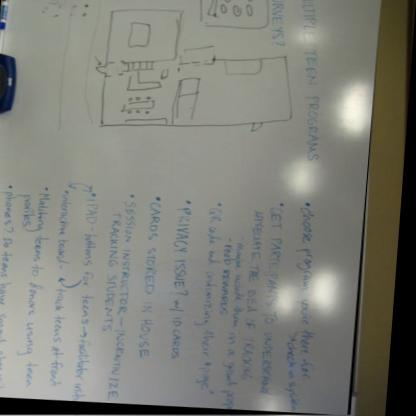Handwritten text: (290, 1, 333, 163), (74, 197, 107, 401), (196, 205, 231, 390), (262, 205, 292, 399), (26, 192, 55, 392), (138, 201, 170, 363), (244, 206, 272, 384), (296, 202, 322, 385), (0, 187, 22, 381), (227, 242, 250, 412), (48, 290, 76, 396), (106, 209, 128, 339), (120, 200, 144, 313), (172, 206, 201, 292), (54, 189, 80, 268), (282, 337, 309, 413), (114, 327, 135, 401), (165, 300, 191, 358), (223, 239, 237, 319), (19, 190, 39, 230), (270, 1, 288, 41)
